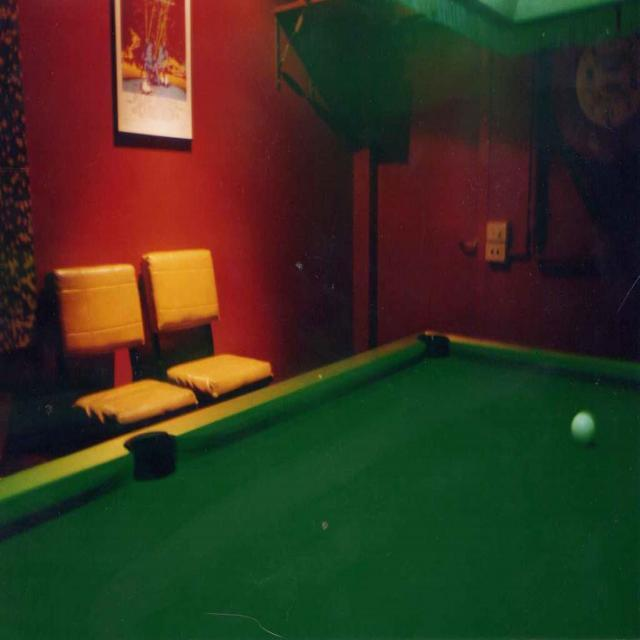Ball: (571, 412, 596, 447)
Billiard table: (0, 328, 640, 640)
